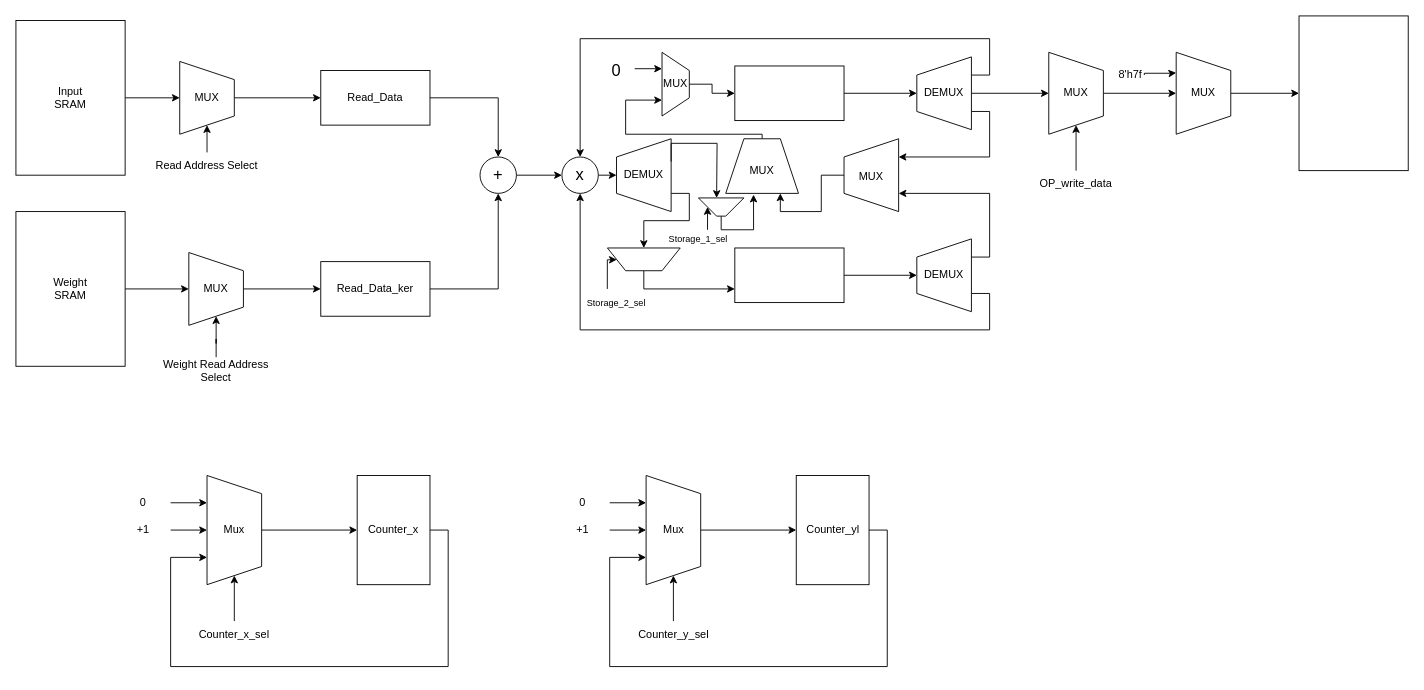
Image size: 1424x690. Some labels were removed from this diagram. The shapes that lost their labels are listed below. From the top down, each one's box as (x1, y1, x2, y2) in pixels, then its label:
(734, 65, 844, 121): Storage_1
(1298, 15, 1408, 171): Ouput_SRAM
(734, 247, 844, 303): Storage_2
